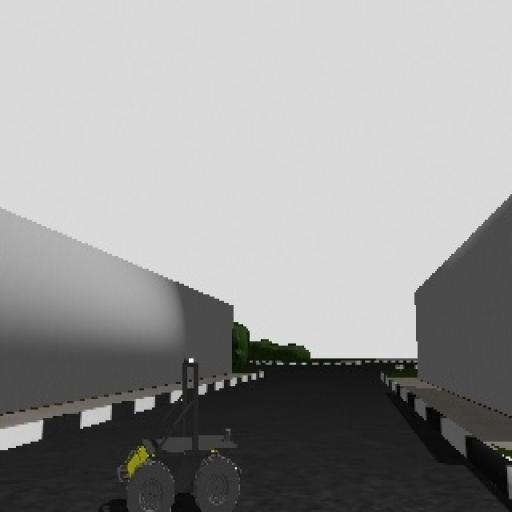huskya200: (101, 350, 249, 512)
